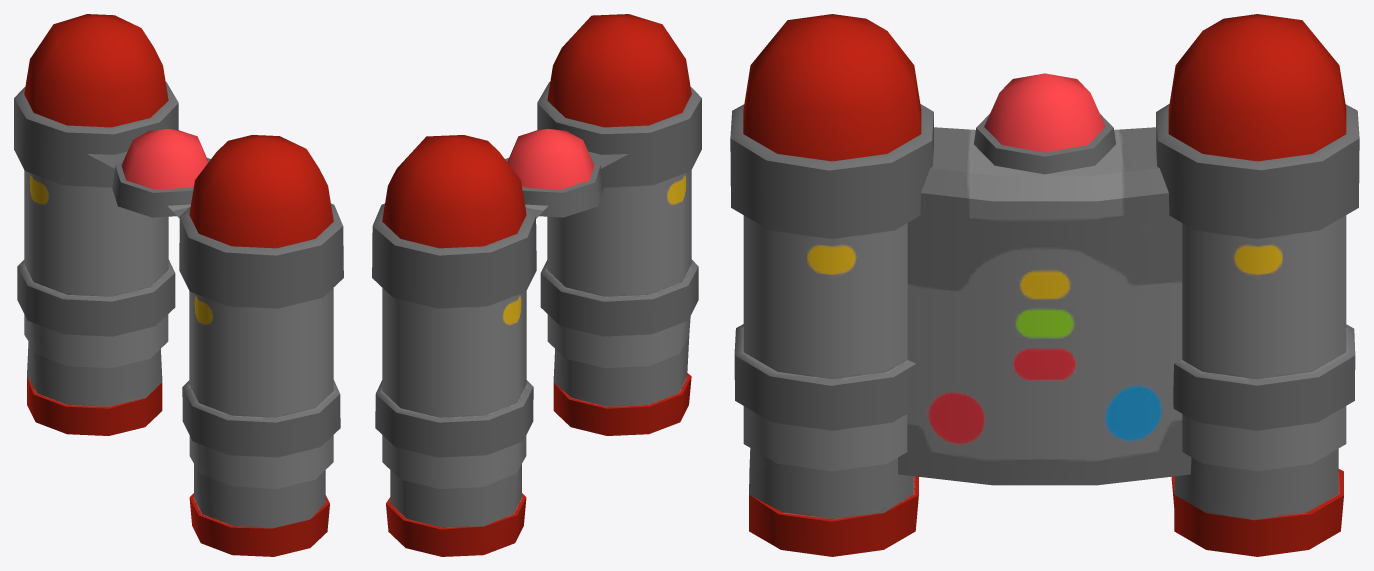
Rendered from jetpack.glb.
3 renders of one model, left to right at view 1: azimuth 30°, elevation 25°; view 2: azimuth 150°, elevation 25°; view 3: azimuth 270°, elevation 25°, orthographic. The views are drawn at different scales.
Visible parts, largest first — view 1: SM_TL_Jetpack; view 2: SM_TL_Jetpack; view 3: SM_TL_Jetpack.
Boxes of the visible parts, <box> form: SM_TL_Jetpack: <box>14,14,343,556</box>; SM_TL_Jetpack: <box>372,14,701,556</box>; SM_TL_Jetpack: <box>730,14,1359,556</box>.
Size of the model in its own units: 0.2416 by 0.6268 by 0.7131.
1 material, 1 textured.
